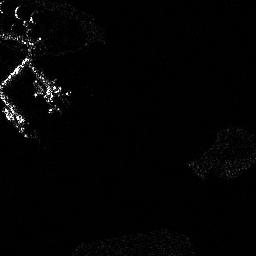ship: (30, 81, 60, 114), (2, 106, 27, 138)
